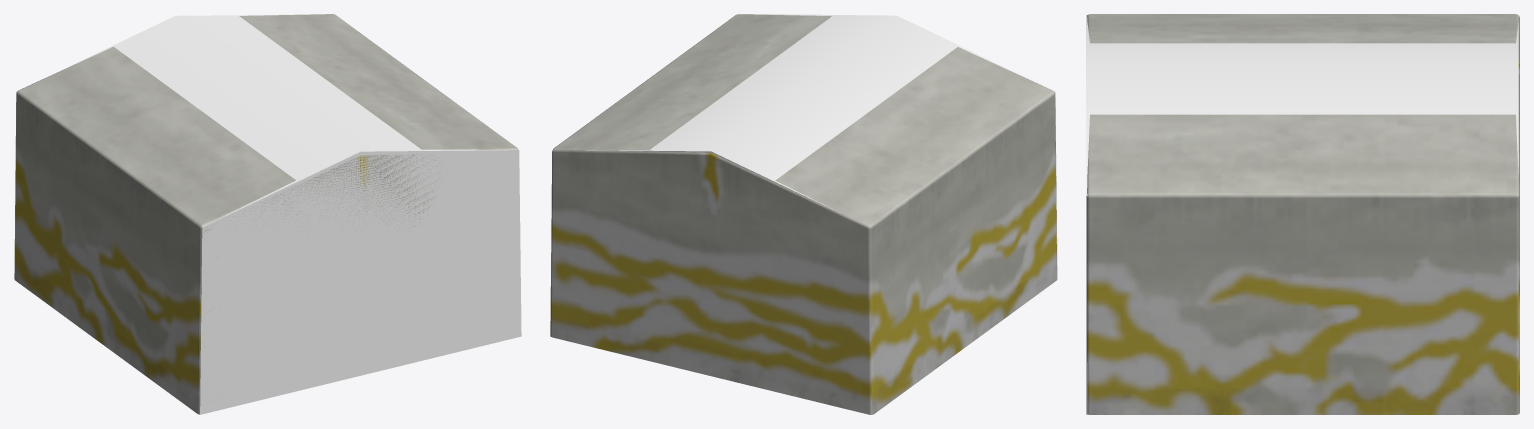
Rendered from objects_un_base_house01.gltf.
3 views of the same model, side by side, from view 1: azimuth 30°, elevation 25°; view 2: azimuth 150°, elevation 25°; view 3: azimuth 270°, elevation 25° (orthographic). The views are drawn at different scales.
Parts seen in each view (by area): view 1: um_objects_un_base_house01_model_lod0Shape:objects_un_base_h (×4); view 2: um_objects_un_base_house01_model_lod0Shape:objects_un_base_h (×4); view 3: um_objects_un_base_house01_model_lod0Shape:objects_un_base_h (×4).
Boxes of the visible parts, x1,y1,x2,y2 form: um_objects_un_base_house01_model_lod0Shape:objects_un_base_h (×4): [14, 14, 521, 414]; um_objects_un_base_house01_model_lod0Shape:objects_un_base_h (×4): [550, 14, 1057, 414]; um_objects_un_base_house01_model_lod0Shape:objects_un_base_h (×4): [1086, 14, 1519, 414].
Size of the model in its own units: 7.54 by 5 by 7.52.
Materials: 6 (5 with a texture image).
